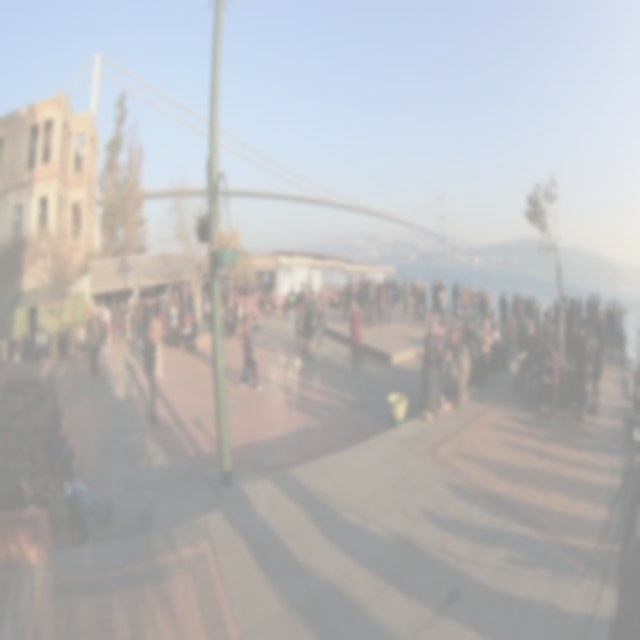pessoa: (54, 409, 114, 527), (238, 312, 263, 390), (586, 310, 604, 418), (142, 325, 160, 427), (514, 320, 540, 390), (573, 329, 593, 419), (541, 334, 559, 422), (222, 290, 264, 326), (240, 304, 258, 387), (420, 344, 440, 417), (526, 334, 546, 402), (458, 333, 479, 388), (443, 348, 462, 408), (454, 332, 471, 394), (420, 318, 440, 370), (508, 317, 536, 352), (349, 300, 362, 373), (509, 290, 541, 318), (486, 330, 504, 378), (98, 310, 110, 376), (317, 284, 345, 310), (294, 303, 306, 362), (88, 313, 99, 376), (476, 337, 489, 387), (286, 282, 298, 336), (314, 294, 326, 346), (509, 292, 521, 343), (356, 304, 366, 364), (138, 296, 154, 331), (183, 313, 199, 347), (632, 361, 640, 427), (358, 272, 368, 324), (365, 276, 375, 328), (594, 296, 605, 343), (229, 301, 242, 340), (608, 301, 616, 363), (304, 302, 316, 342), (604, 298, 612, 356), (610, 298, 618, 356), (432, 323, 444, 361), (568, 327, 598, 342), (620, 306, 628, 362), (418, 278, 428, 322), (481, 318, 493, 354), (344, 276, 353, 323), (461, 316, 477, 342), (616, 301, 624, 352), (118, 302, 128, 342), (374, 276, 382, 326), (540, 310, 550, 350), (180, 310, 190, 350), (59, 322, 70, 358), (109, 299, 118, 342), (164, 296, 173, 339), (575, 290, 583, 338), (38, 325, 48, 363), (158, 295, 168, 333), (499, 290, 508, 332), (308, 289, 316, 336), (130, 300, 138, 346), (256, 292, 270, 318), (168, 298, 178, 334), (268, 288, 280, 318), (380, 282, 388, 326), (386, 282, 394, 326), (458, 284, 466, 328), (217, 300, 226, 338), (462, 284, 469, 332), (70, 323, 80, 356), (78, 322, 87, 358), (475, 286, 483, 326), (586, 290, 594, 330), (542, 296, 558, 316), (362, 280, 370, 319), (388, 272, 396, 311), (439, 289, 447, 328), (341, 282, 348, 326), (412, 278, 419, 322), (562, 292, 569, 336), (55, 324, 63, 362), (224, 300, 232, 338), (497, 290, 505, 328), (498, 322, 510, 347), (450, 282, 458, 318), (484, 290, 492, 326), (446, 320, 458, 344), (34, 328, 42, 363), (135, 300, 142, 340), (402, 274, 409, 314), (482, 289, 489, 328), (599, 302, 607, 336), (480, 288, 487, 326), (14, 331, 22, 362), (409, 277, 417, 308), (429, 277, 436, 312), (471, 286, 478, 321), (9, 333, 17, 363), (298, 280, 308, 304), (568, 296, 576, 326), (87, 313, 97, 336), (154, 294, 162, 322), (392, 277, 399, 308), (384, 274, 389, 316), (489, 310, 497, 334), (453, 278, 460, 304), (467, 282, 472, 318), (202, 290, 210, 312), (437, 280, 442, 315), (350, 272, 359, 291), (86, 309, 94, 327), (434, 278, 440, 302), (547, 317, 556, 333), (95, 310, 102, 330), (398, 282, 403, 306), (582, 298, 588, 318), (408, 292, 414, 310), (2, 330, 8, 346), (592, 292, 598, 304), (39, 326, 44, 338), (438, 285, 442, 300)
